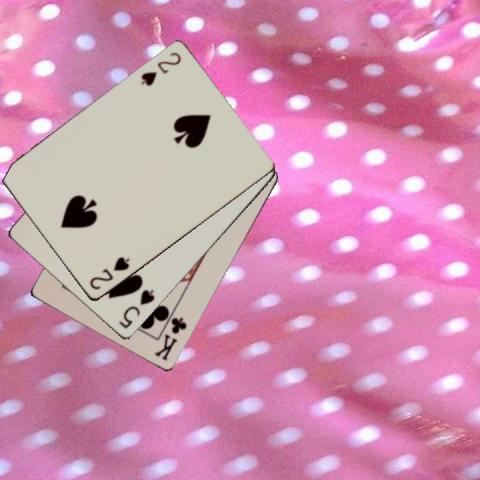2s: (137, 49, 183, 88), (86, 254, 131, 292)
5s: (116, 286, 156, 330)
Kc: (152, 315, 189, 362)
